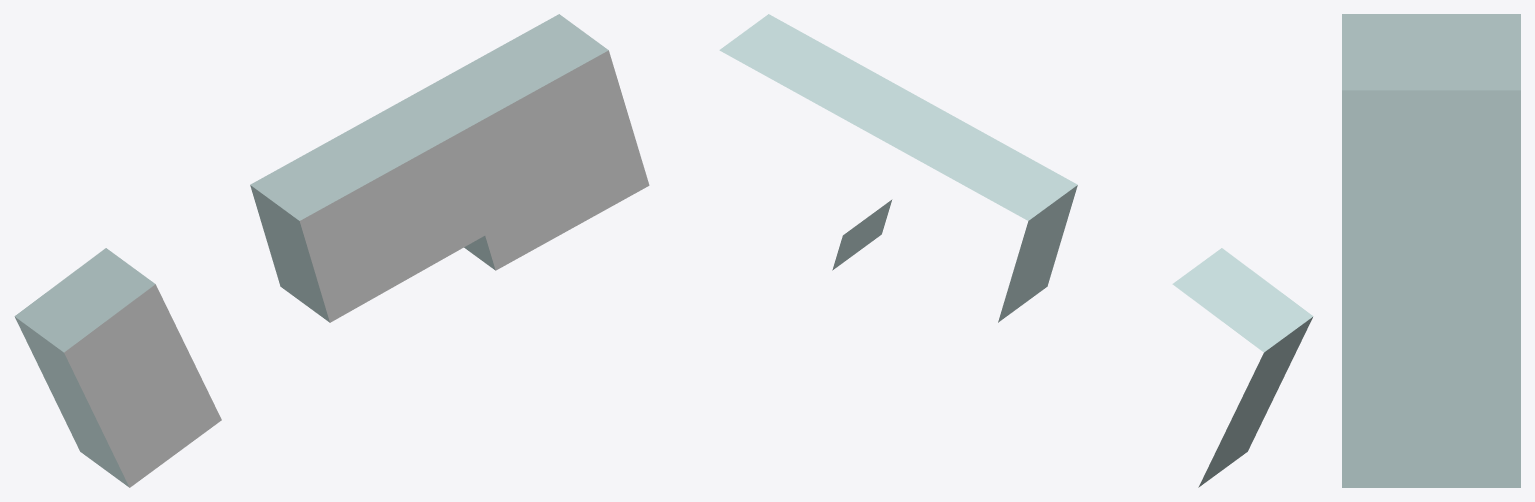
The picture shows the model from 3 angles, left to right: view 1: azimuth 30°, elevation 25°; view 2: azimuth 150°, elevation 25°; view 3: azimuth 270°, elevation 25°; orthographic projection. The views are drawn at different scales.
Parts seen in each view (by area): view 1: 0_3_1_3_1_2_0_1_1; view 2: 0_3_1_3_1_2_0_1_1; view 3: 0_3_1_3_1_2_0_1_1.
Boxes of the visible parts, <box> form: 0_3_1_3_1_2_0_1_1: <box>14,14,649,487</box>; 0_3_1_3_1_2_0_1_1: <box>719,14,1313,487</box>; 0_3_1_3_1_2_0_1_1: <box>1342,14,1520,487</box>.
Bounding box in the file's own units: 20.46 × 10.71 × 3.
